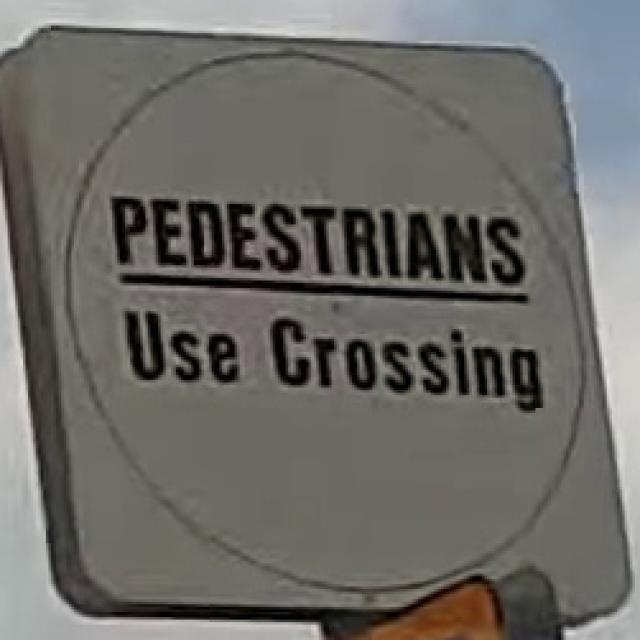pedestriancrossing_sign: (0, 18, 635, 637)
